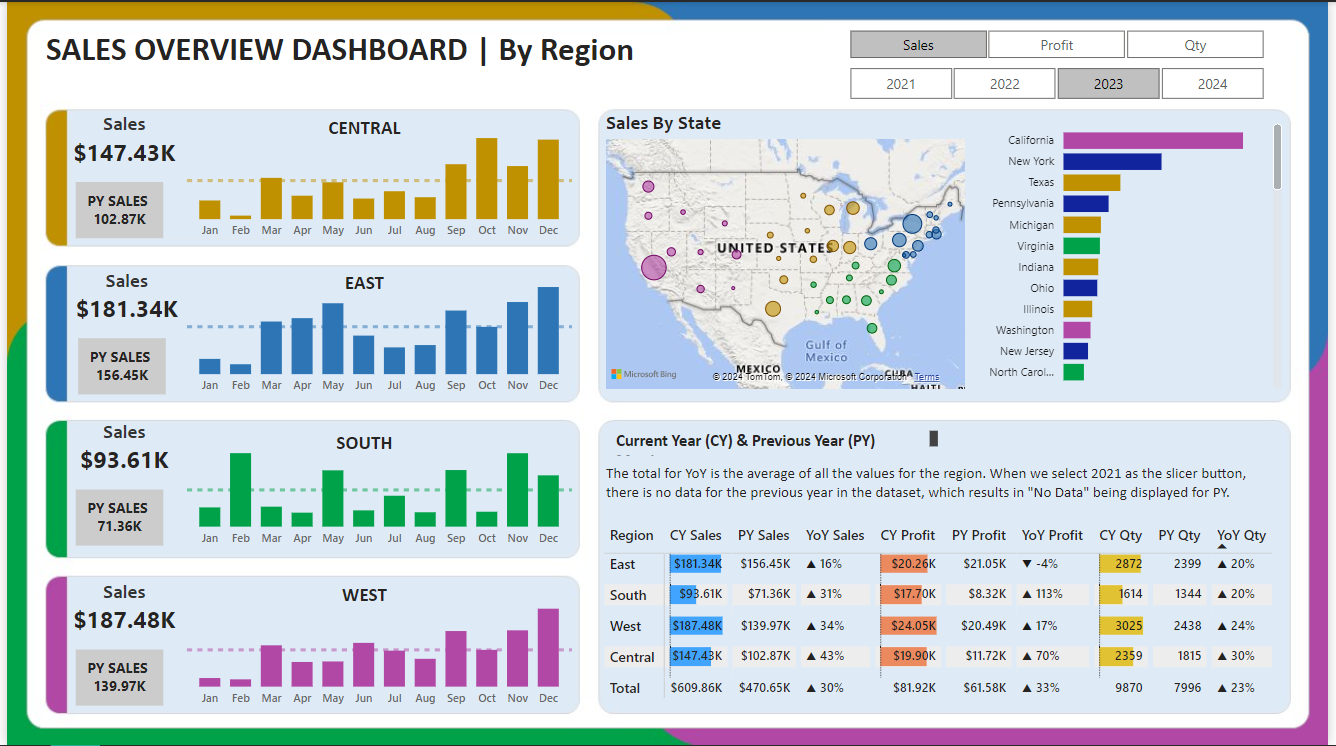

The dashboard page shown, as its layout file describes it:
{"tool":"powerbi","page":{"name":"Page 1","canvas":[1280,720],"ordinal":0},"visuals":[{"type":"slicer","fields":{"Values":["Select Metric.Select Metric"]},"box":[790.5,20.6,450.3,36.3],"z":0},{"type":"card","fields":{"Values":["Sales Data.Total Sales"]},"box":[48.4,263.7,135.6,67.8],"z":0,"group":"g2"},{"type":"card","fields":{"Values":["Sales Data.Total Sales"]},"box":[46,410.4,135.6,67.8],"z":0,"group":"g1"},{"type":"card","fields":{"Values":["Sales Data.Total Sales"]},"box":[46,565.3,135.6,67.8],"z":0,"group":"g3"},{"type":"card","fields":{"Values":["Sales Data.Total Sales"]},"box":[46,112.6,135.6,67.8],"z":1000},{"type":"card","fields":{"Values":["Sales Data.Dynamic Title"]},"box":[78.7,256.4,75.1,27.8],"z":1000,"group":"g2"},{"type":"card","fields":{"Values":["Sales Data.Dynamic Title"]},"box":[76.3,403.1,75.1,27.8],"z":1000,"group":"g1"},{"type":"card","fields":{"Values":["Sales Data.Dynamic Title"]},"box":[76.3,558,75.1,27.8],"z":1000,"group":"g3"},{"type":"textbox","box":[283.3,255.4,125.9,42.4],"z":2000},{"type":"card","fields":{"Values":["Sales Data.PY KPI Sale"]},"box":[69,325.4,84.7,54.5],"z":2000,"group":"g2"},{"type":"card","fields":{"Values":["Sales Data.PY KPI Sale"]},"box":[66.6,472.1,84.7,54.5],"z":2000,"group":"g1"},{"type":"card","fields":{"Values":["Sales Data.PY KPI Sale"]},"box":[66.6,627,84.7,54.5],"z":2000,"group":"g3"},{"type":"slicer","fields":{"Values":["Calendar Table.Year"]},"box":[790.5,56.9,450.3,43.6],"z":3000},{"type":"clusteredColumnChart","fields":{"Y":["Sales Data.Total Sales"],"Category":["Calendar Table.Month"]},"box":[170,255.4,382.5,133.2],"z":3000,"group":"g2"},{"type":"clusteredColumnChart","fields":{"Y":["Sales Data.Total Sales"],"Category":["Calendar Table.Month"]},"box":[169.5,403.1,382.5,133.2],"z":3000,"group":"g1"},{"type":"clusteredColumnChart","fields":{"Y":["Sales Data.Total Sales"],"Category":["Calendar Table.Month"]},"box":[169.5,558,382.5,133.2],"z":3000,"group":"g3"},{"type":"card","fields":{"Values":["Sales Data.Dynamic Title"]},"box":[76.3,105.3,75.1,27.8],"z":4000},{"type":"card","fields":{"Values":["Sales Data.PY KPI Sale"]},"box":[66.6,174.3,84.7,54.5],"z":5000},{"type":"clusteredColumnChart","fields":{"Y":["Sales Data.Total Sales"],"Category":["Calendar Table.Month"]},"box":[169.5,105.3,382.5,133.2],"z":6000},{"type":"textbox","box":[32.7,20.6,595.6,50.8],"z":7000},{"type":"group","id":"g1","title":"Group 1","box":[46,403.1,506,133.2],"z":8000},{"type":"group","id":"g2","title":"Group 1","box":[48.4,255.4,503.6,133.2],"z":9000},{"type":"group","id":"g3","title":"Group 1","box":[46,558,506,133.2],"z":10000},{"type":"textbox","box":[283.3,105.3,125.9,42.4],"z":11000},{"type":"textbox","box":[283.3,410.4,125.9,42.4],"z":12000},{"type":"textbox","box":[283.3,558,125.9,42.4],"z":13000},{"type":"map","title":"Sales By State","fields":{"Size":["Sales Data.Total Sales"],"Category":["Sales Data.State/Province"],"Series":["Sales Data.Region"]},"box":[575,105.3,358.3,274.8],"z":14000},{"type":"barChart","fields":{"Y":["Sales Data.Total Sales"],"Category":["Sales Data.State/Province"],"Series":["Sales Data.Region"]},"box":[933.3,105.3,306.3,274.8],"z":15000},{"type":"pivotTable","fields":{"Rows":["Sales Data.Region"],"Values":["Sales Data.CY Sales","Sales Data.PY Sales","Sales Data.YoY Sales","Sales Data.CY Profit","Sales Data.PY Profit","Sales Data.YoY Profit","Sales Data.CY Qty","Sales Data.PY Qty","Sales Data.YoY Qty"]},"box":[573.8,499.9,665.8,191.3],"z":16000},{"type":"textbox","box":[584.7,410.4,322,33.9],"z":16001},{"type":"textbox","box":[575,441.8,651.2,55.7],"z":16002}]}

Visuals, with their boxes in screenshot pixels (x1, y1, x2, y2), scaled from the page's 1280x720 canvas onto the 1336x746 screenshot:
slicer - Select Metric.Select Metric: region(825, 21, 1295, 59)
card - Sales Data.Total Sales: region(51, 273, 192, 343)
card - Sales Data.Total Sales: region(48, 425, 190, 495)
card - Sales Data.Total Sales: region(48, 586, 190, 656)
card - Sales Data.Total Sales: region(48, 117, 190, 187)
card - Sales Data.Dynamic Title: region(82, 266, 161, 294)
card - Sales Data.Dynamic Title: region(80, 418, 158, 446)
card - Sales Data.Dynamic Title: region(80, 578, 158, 607)
textbox: region(296, 265, 427, 309)
card - Sales Data.PY KPI Sale: region(72, 337, 160, 394)
card - Sales Data.PY KPI Sale: region(70, 489, 158, 546)
card - Sales Data.PY KPI Sale: region(70, 650, 158, 706)
slicer - Calendar Table.Year: region(825, 59, 1295, 104)
clusteredColumnChart - Sales Data.Total Sales x Calendar Table.Month: region(177, 265, 577, 403)
clusteredColumnChart - Sales Data.Total Sales x Calendar Table.Month: region(177, 418, 576, 556)
clusteredColumnChart - Sales Data.Total Sales x Calendar Table.Month: region(177, 578, 576, 716)
card - Sales Data.Dynamic Title: region(80, 109, 158, 138)
card - Sales Data.PY KPI Sale: region(70, 181, 158, 237)
clusteredColumnChart - Sales Data.Total Sales x Calendar Table.Month: region(177, 109, 576, 247)
textbox: region(34, 21, 656, 74)
"Group 1" group: region(48, 418, 576, 556)
"Group 1" group: region(51, 265, 576, 403)
"Group 1" group: region(48, 578, 576, 716)
textbox: region(296, 109, 427, 153)
textbox: region(296, 425, 427, 469)
textbox: region(296, 578, 427, 622)
"Sales By State" map: region(600, 109, 974, 394)
barChart - Sales Data.Total Sales x Sales Data.State/Province: region(974, 109, 1294, 394)
pivotTable - Sales Data.Region x Sales Data.CY Sales: region(599, 518, 1294, 716)
textbox: region(610, 425, 946, 460)
textbox: region(600, 458, 1280, 515)
